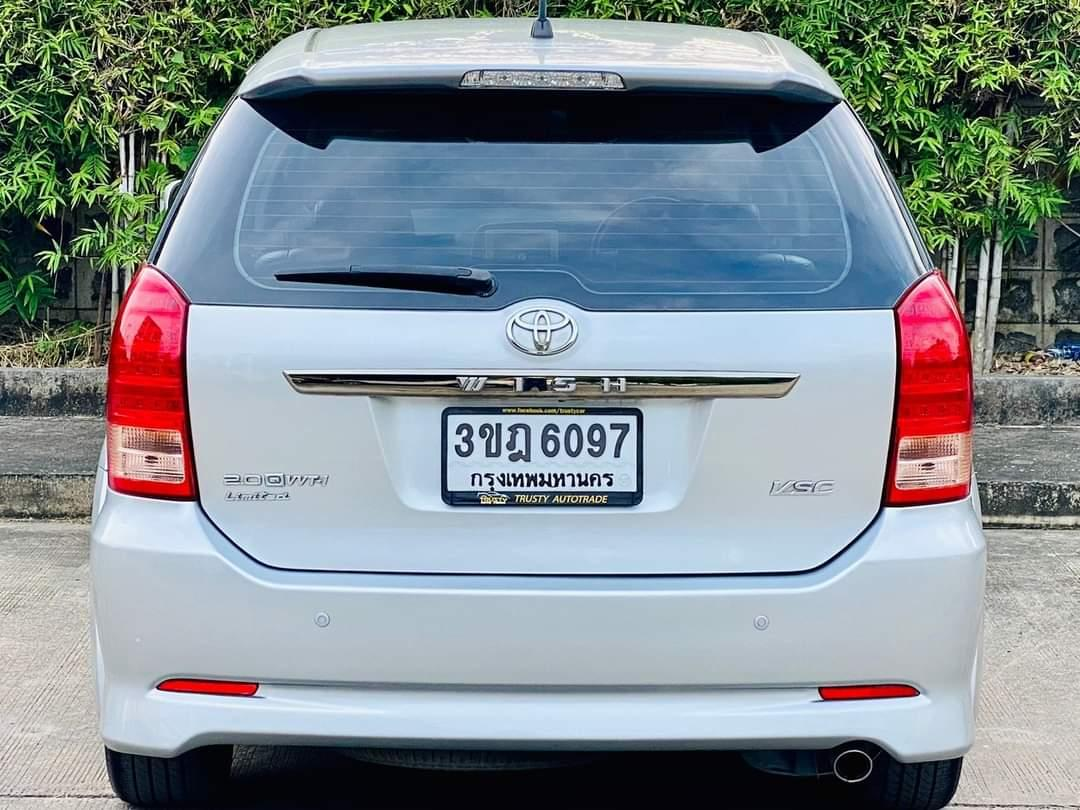license-plate: (436, 403, 650, 512)
